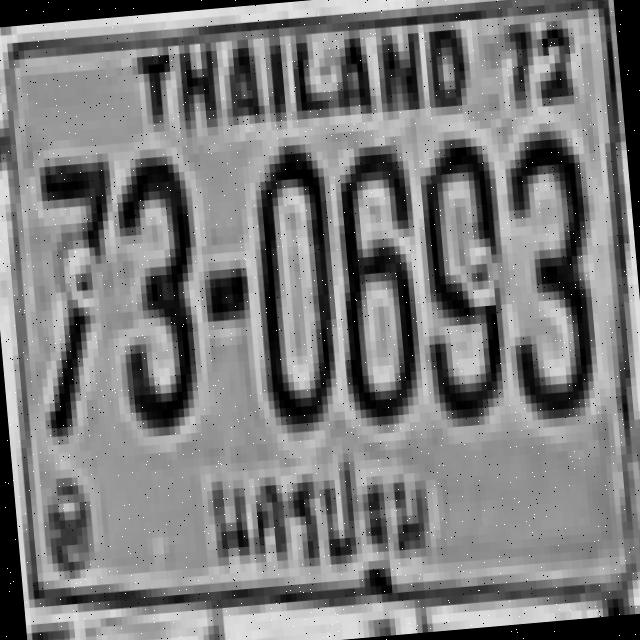0: (240, 134, 340, 426)
3: (490, 120, 600, 413), (102, 146, 206, 430)
6: (324, 136, 422, 419)
7: (23, 158, 126, 432)
9: (406, 128, 510, 420)
NakhonPathom: (190, 438, 441, 616)
